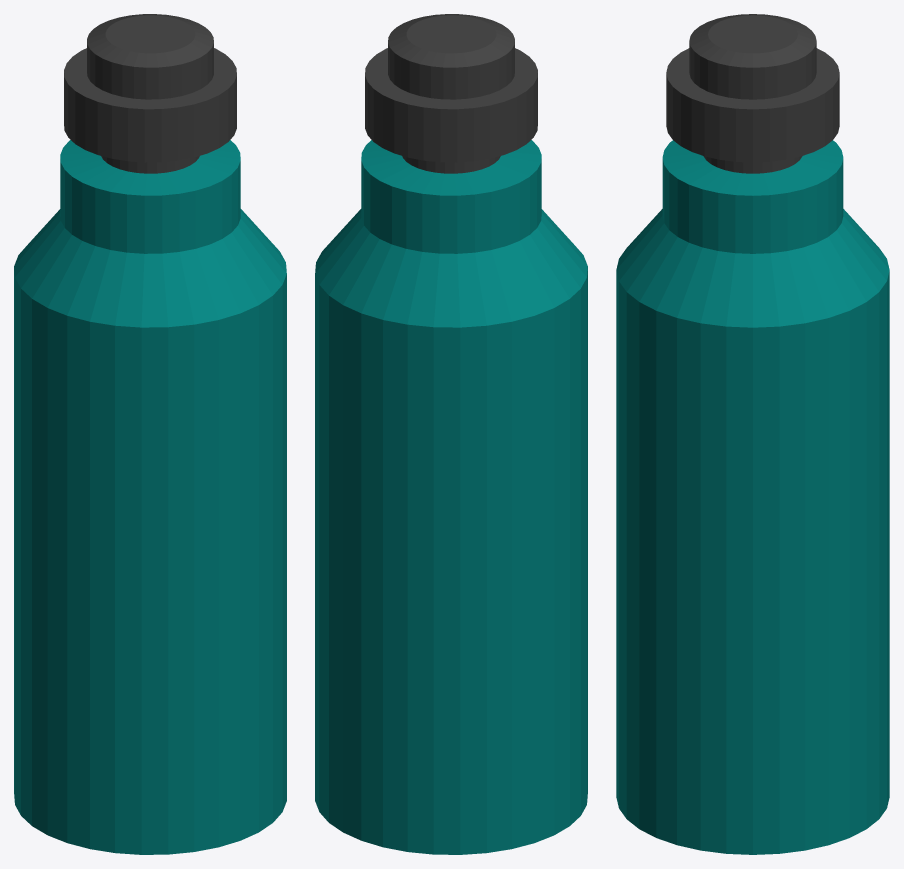
File: termos.fbx
The picture shows the model from 3 angles, left to right: view 1: azimuth 30°, elevation 25°; view 2: azimuth 150°, elevation 25°; view 3: azimuth 270°, elevation 25°; orthographic projection.
Parts seen in each view (by area): view 1: Cylinder; view 2: Cylinder; view 3: Cylinder.
Boxes of the visible parts, bbox=[...] form: Cylinder: bbox=[14, 14, 286, 854]; Cylinder: bbox=[315, 14, 587, 854]; Cylinder: bbox=[616, 14, 889, 854].
Size of the model in its own units: 200 by 624 by 200.
